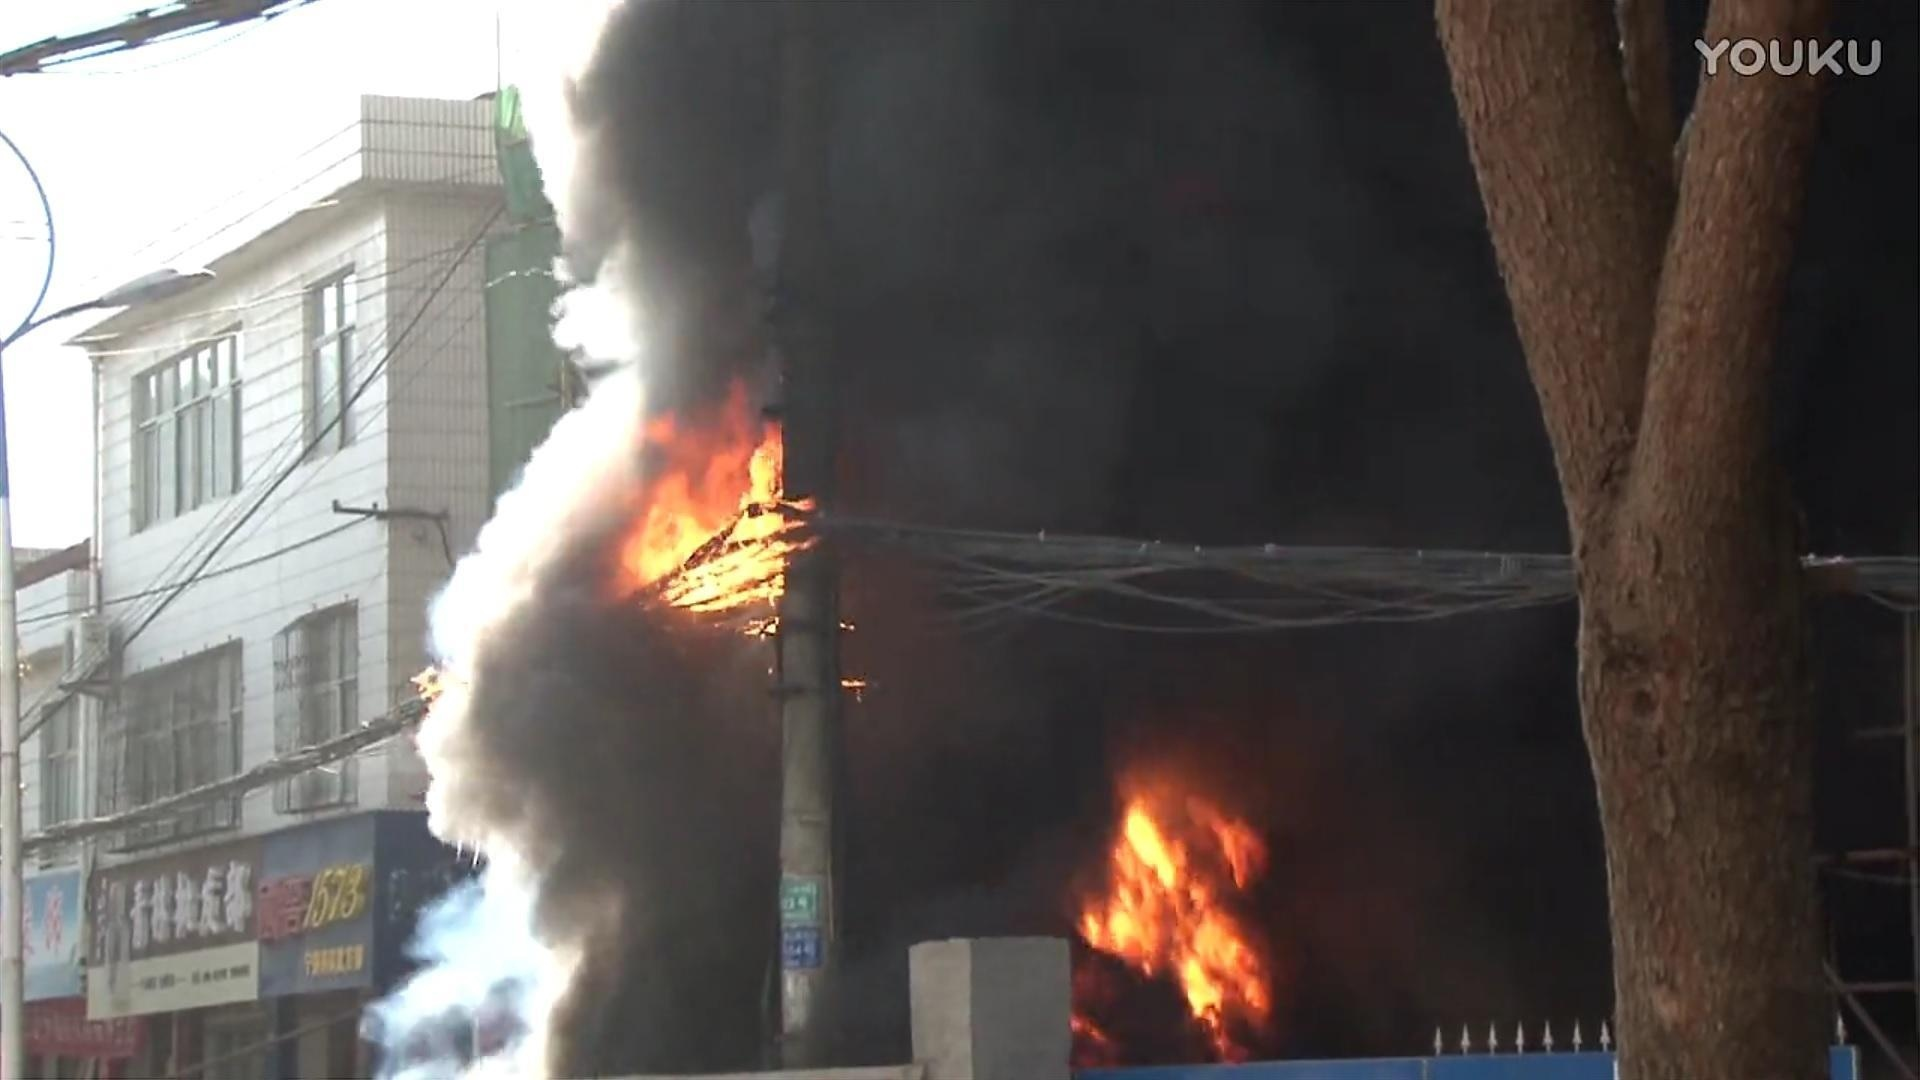fire: (1077, 785, 1271, 1048), (625, 401, 800, 622)
